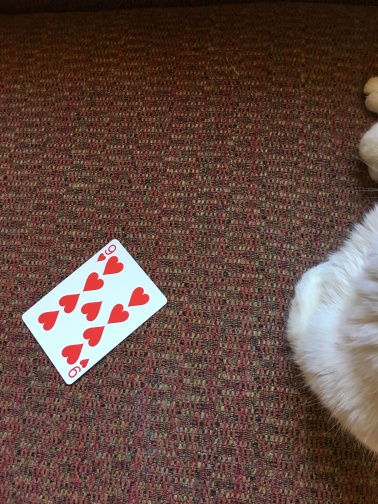nine: (22, 236, 168, 385)
